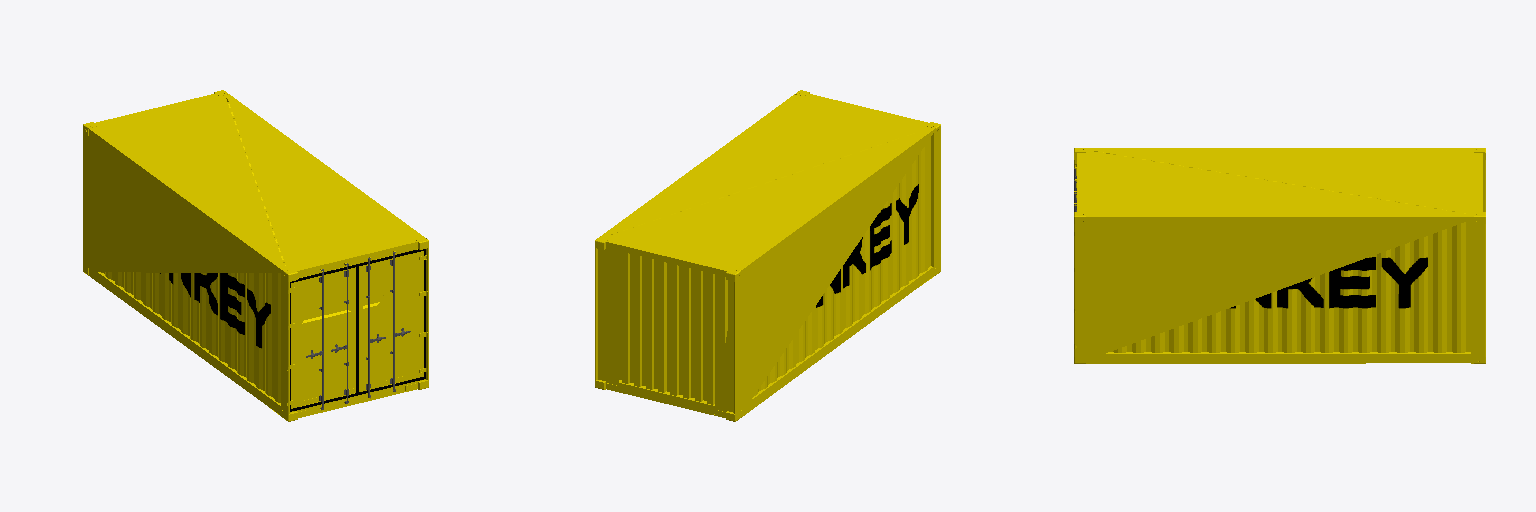
3 renders of one model, left to right at view 1: azimuth 30°, elevation 25°; view 2: azimuth 150°, elevation 25°; view 3: azimuth 270°, elevation 25°, orthographic.
Visible parts, largest first — view 1: CubeMain.001_Cube; view 2: CubeMain.001_Cube; view 3: CubeMain.001_Cube.
Boxes of the visible parts, <box> form: CubeMain.001_Cube: <box>83,90,428,421</box>; CubeMain.001_Cube: <box>595,90,940,421</box>; CubeMain.001_Cube: <box>1074,148,1485,363</box>.
Size of the model in its own units: 2.01 by 2.01 by 5.07.
1 materials, 1 textured.